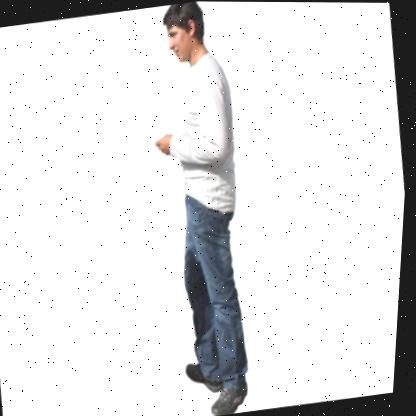person: (123, 1, 279, 413)
